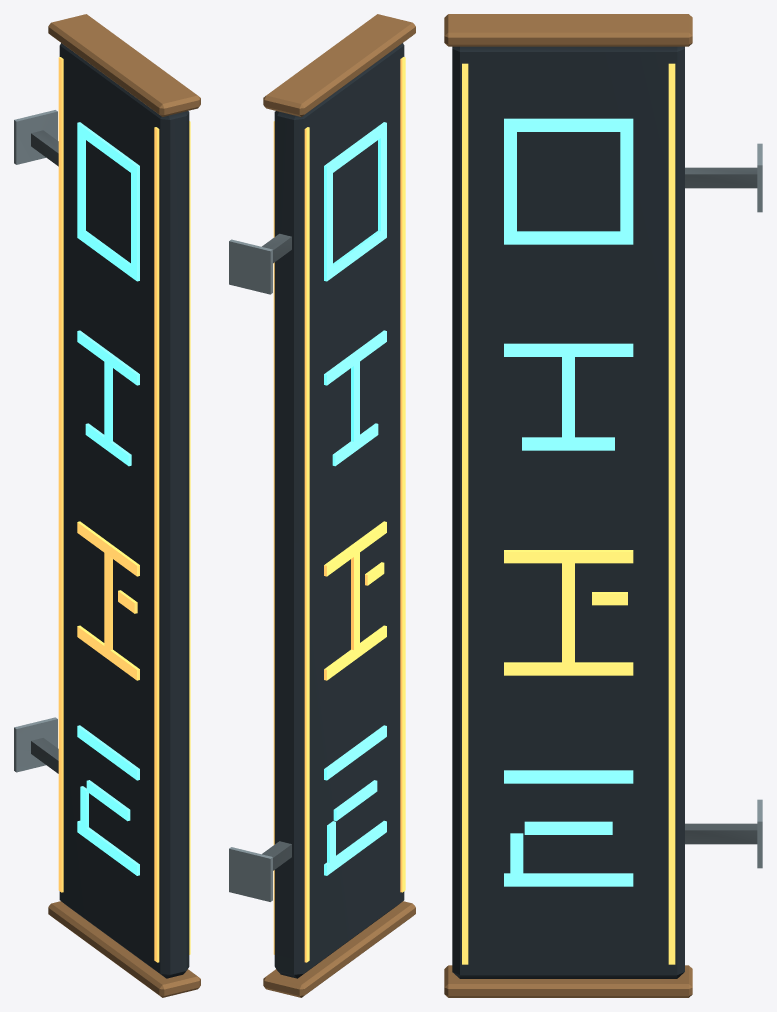
The model's file is neon-blade.lod0.glb.
3 renders of one model, left to right at view 1: azimuth 30°, elevation 25°; view 2: azimuth 150°, elevation 25°; view 3: azimuth 270°, elevation 25°, orthographic. The views are drawn at different scales.
Parts seen in each view (by area): view 1: structure; view 2: structure; view 3: structure.
Part boxes in pixels (<box>): structure: <box>14,14,200,997</box>; structure: <box>229,14,415,997</box>; structure: <box>444,14,762,997</box>.
Bounding box in the file's own units: 0.1999 × 4.12 × 1.23.
